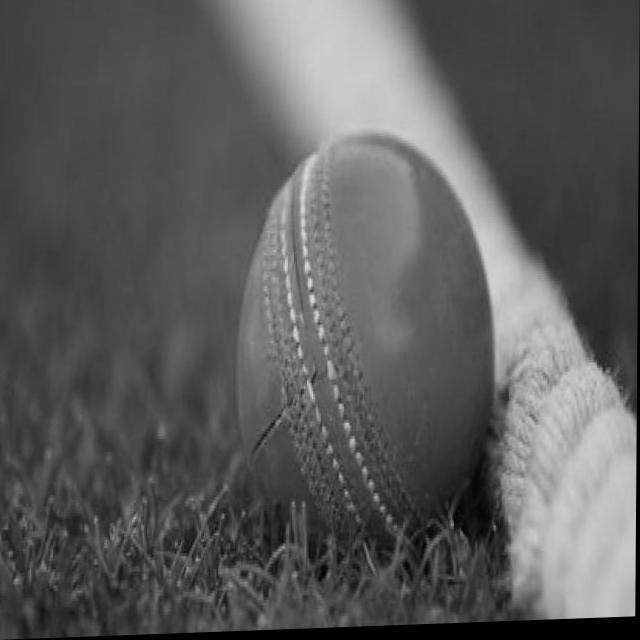cricket ball: (237, 133, 495, 562)
